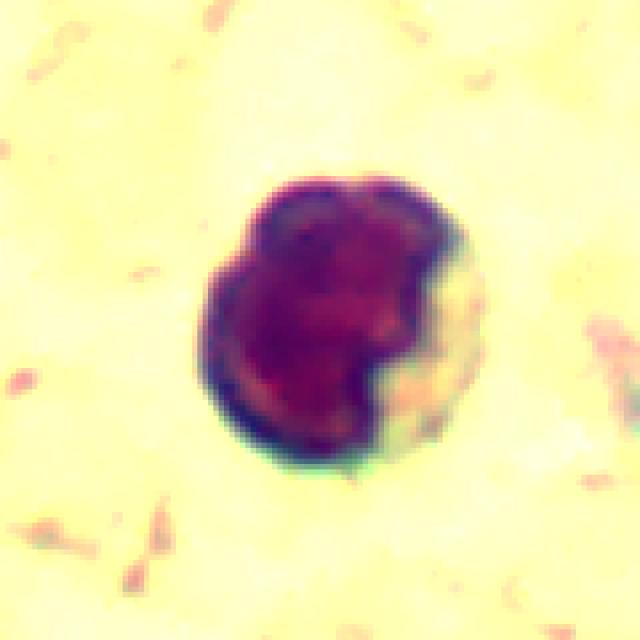WBC: (181, 149, 507, 480)
